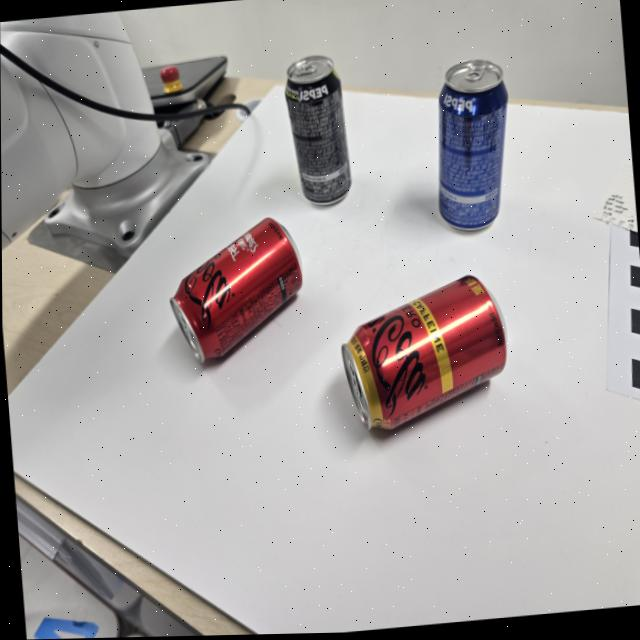can_coke_decaf: (341, 276, 506, 429)
can_coke_zero: (171, 217, 302, 362)
can_pepsi: (439, 59, 508, 230)
can_pepsi_zero: (285, 55, 351, 204)
